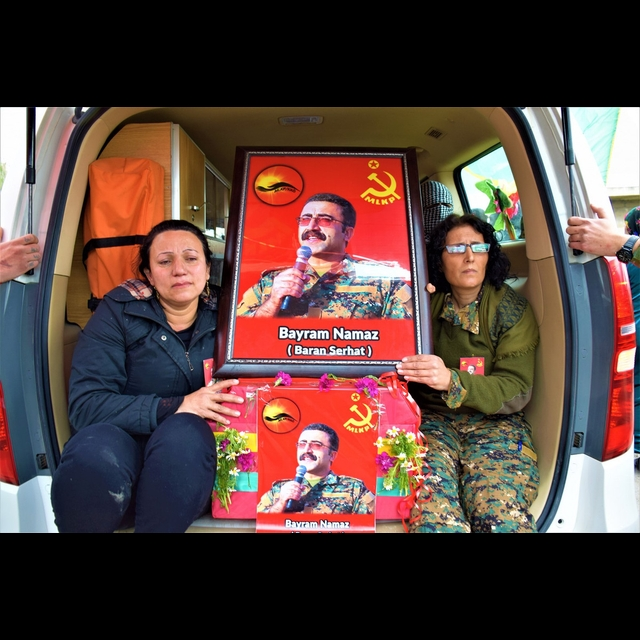MLKP: (355, 157, 405, 215), (342, 393, 377, 441)
